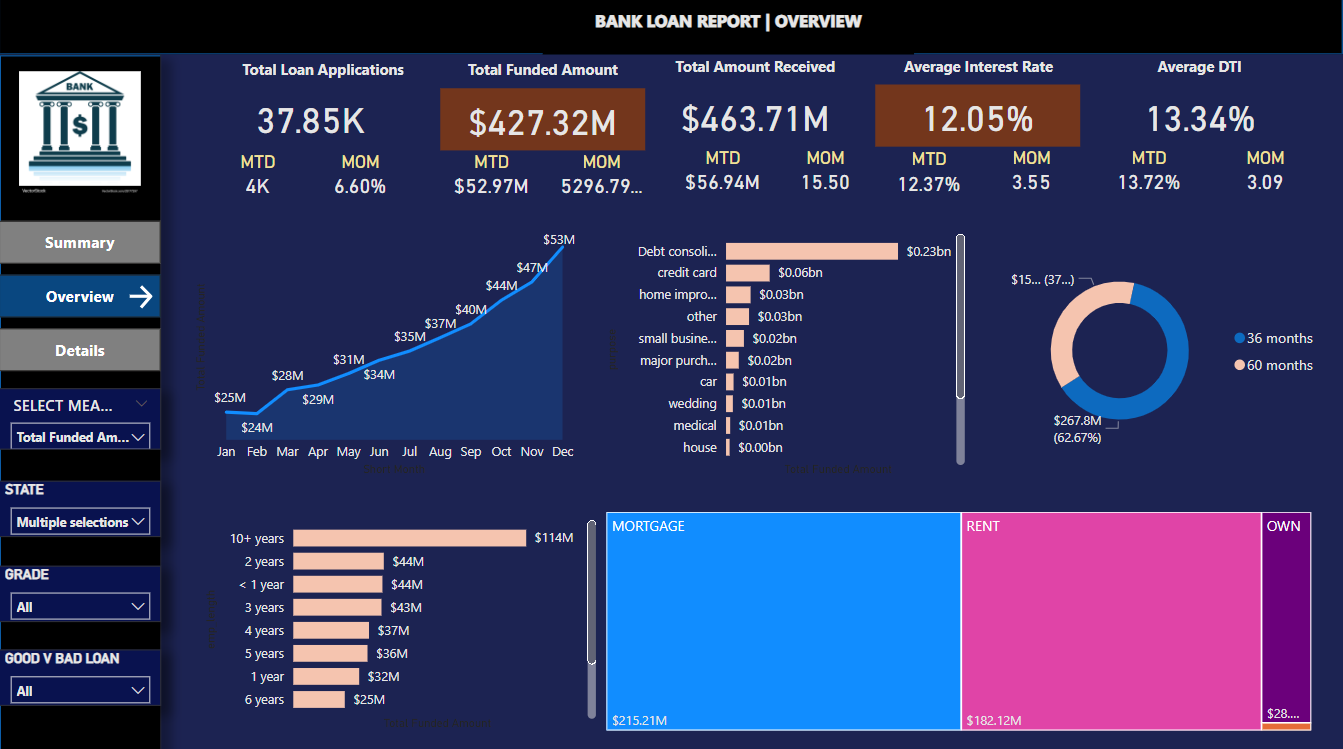

What the dashboard file says about the page in this screenshot:
{"tool":"powerbi","page":{"name":"Overview","canvas":[1280,720],"ordinal":1},"visuals":[{"type":"shape","box":[0,54.8,154.8,665.5],"z":0},{"type":"textbox","box":[396.4,0,489.3,54.8],"z":1000},{"type":"textbox","box":[615.5,51.2,209.5,32.1],"z":2000},{"type":"card","fields":{"Values":["Bank_loan_data.Total Funded Amount"]},"box":[420.2,86.9,195.2,59.5],"z":3000},{"type":"textbox","box":[191.7,54.8,198.8,28.6],"z":4000},{"type":"card","title":"MOM","fields":{"Values":["Bank_loan_data.MOM TOTAL AMOUNT RECEIVED"]},"box":[738.1,142.9,97.6,48.8],"z":5000},{"type":"card","fields":{"Values":["Bank_loan_data.Total Loan Applications"]},"box":[197.6,83.3,198.8,63.1],"z":6000},{"type":"card","title":"MTD","fields":{"Values":["Bank_loan_data.MTD LOAN APPLICATIONS"]},"box":[197.6,146.4,97.6,48.8],"z":7000},{"type":"card","title":"MOM","fields":{"Values":["Bank_loan_data.MOM LOAN APPLICATIONS"]},"box":[295.2,146.4,97.6,48.8],"z":8000},{"type":"textbox","box":[413.1,54.8,209.5,32.1],"z":9000},{"type":"card","title":"MTD","fields":{"Values":["Bank_loan_data.MTD FUNDED AMOUNT"]},"box":[420.2,146.4,97.6,48.8],"z":10000},{"type":"card","title":"MOM","fields":{"Values":["Bank_loan_data.MOM FUNDED AMOUNT"]},"box":[525,146.4,97.6,48.8],"z":11000},{"type":"card","fields":{"Values":["Bank_loan_data.Total Amount Received"]},"box":[622.6,83.3,195.2,59.5],"z":12000},{"type":"card","title":"MTD","fields":{"Values":["Bank_loan_data.MTD Amount Received"]},"box":[640.5,142.9,97.6,48.8],"z":13000},{"type":"textbox","box":[835.7,51.2,194,32.1],"z":14000},{"type":"card","fields":{"Values":["Bank_loan_data.Average Interest Rate"]},"box":[834.5,83.3,195.2,59.5],"z":15000},{"type":"card","title":"MTD","fields":{"Values":["Bank_loan_data.MTD Average Rate"]},"box":[836.9,144,97.6,48.8],"z":16000},{"type":"card","title":"MOM","fields":{"Values":["Bank_loan_data.MOM Average Interest Rate"]},"box":[934.5,142.9,97.6,48.8],"z":17000},{"type":"card","fields":{"Values":["Bank_loan_data.Average DTI"]},"box":[1046.4,83.3,195.2,59.5],"z":18000},{"type":"textbox","box":[1046.4,51.2,194,31],"z":19000},{"type":"card","title":"MTD","fields":{"Values":["Bank_loan_data.MTD Average DTI"]},"box":[1046.4,142.9,97.6,48.8],"z":20000},{"type":"card","title":"MOM","fields":{"Values":["Bank_loan_data.MOM Average TDI"]},"box":[1157.1,142.9,97.6,48.8],"z":21000},{"type":"shape","box":[0,0,1279.8,54.8],"z":22000},{"type":"slicer","title":"STATE","fields":{"Values":["Bank_loan_data.address_state"]},"box":[0,460.7,154.8,53.6],"z":23000},{"type":"slicer","title":"GRADE","fields":{"Values":["Bank_loan_data.grade"]},"box":[0,541.7,154.8,53.6],"z":24000},{"type":"slicer","title":"GOOD V BAD LOAN","fields":{"Values":["Bank_loan_data.loan_status (groups)"]},"box":[0,621.4,154.8,53.6],"z":25000},{"type":"textbox","box":[517.9,6,353.6,48.8],"z":26000},{"type":"areaChart","title":"Total Funded Amount by Month","fields":{"Y":["Bank_loan_data.Total Funded Amount"],"Category":["Calendar Table.Short Month"]},"box":[182.1,213.1,371.4,247.6],"z":27000},{"type":"slicer","fields":{"Values":["Select Measures.Select Measures"]},"box":[0,372.6,154.8,58.3],"z":28000},{"type":"donutChart","fields":{"Y":["Bank_loan_data.Total Funded Amount"],"Category":["Bank_loan_data.term"]},"box":[954.8,213.1,310.7,247.6],"z":29000},{"type":"barChart","fields":{"Y":["Bank_loan_data.Total Funded Amount"],"Category":["Bank_loan_data.purpose"]},"box":[573.8,213.1,351.2,247.6],"z":29001},{"type":"barChart","fields":{"Y":["Bank_loan_data.Total Funded Amount"],"Category":["Bank_loan_data.emp_length"]},"box":[191.7,485.7,382.1,216.7],"z":29002},{"type":"treemap","fields":{"Group":["Bank_loan_data.home_ownership"],"Values":["Bank_loan_data.Total Funded Amount"]},"box":[573.8,485.7,681,217.9],"z":29003},{"type":"image","box":[14.3,64.3,126.2,131],"z":29004},{"type":"pageNavigator","box":[0,213.1,154.8,144],"z":29005},{"type":"actionButton","box":[119,270.2,35.7,31],"z":29006}]}

Visuals, with their boxes in screenshot pixels (x1, y1, x2, y2), scaled from the page's 1280x720 canvas onto the 1343x749 screenshot:
shape: 0:57:162:748
textbox: 416:0:929:57
textbox: 646:53:866:87
card - Bank_loan_data.Total Funded Amount: 441:90:646:152
textbox: 201:57:410:87
"MOM" card: 774:149:877:199
card - Bank_loan_data.Total Loan Applications: 207:87:416:152
"MTD" card: 207:152:310:203
"MOM" card: 310:152:412:203
textbox: 433:57:653:90
"MTD" card: 441:152:543:203
"MOM" card: 551:152:653:203
card - Bank_loan_data.Total Amount Received: 653:87:858:149
"MTD" card: 672:149:774:199
textbox: 877:53:1080:87
card - Bank_loan_data.Average Interest Rate: 876:87:1080:149
"MTD" card: 878:150:980:201
"MOM" card: 980:149:1083:199
card - Bank_loan_data.Average DTI: 1098:87:1303:149
textbox: 1098:53:1301:86
"MTD" card: 1098:149:1200:199
"MOM" card: 1214:149:1316:199
shape: 0:0:1342:57
"STATE" slicer: 0:479:162:535
"GRADE" slicer: 0:564:162:619
"GOOD V BAD LOAN" slicer: 0:646:162:702
textbox: 543:6:914:57
"Total Funded Amount by Month" areaChart: 191:222:581:479
slicer - Select Measures.Select Measures: 0:388:162:448
donutChart - Bank_loan_data.Total Funded Amount x Bank_loan_data.term: 1002:222:1328:479
barChart - Bank_loan_data.Total Funded Amount x Bank_loan_data.purpose: 602:222:971:479
barChart - Bank_loan_data.Total Funded Amount x Bank_loan_data.emp_length: 201:505:602:731
treemap - Bank_loan_data.home_ownership x Bank_loan_data.Total Funded Amount: 602:505:1317:732
image: 15:67:147:203
pageNavigator: 0:222:162:371
actionButton: 125:281:162:313
